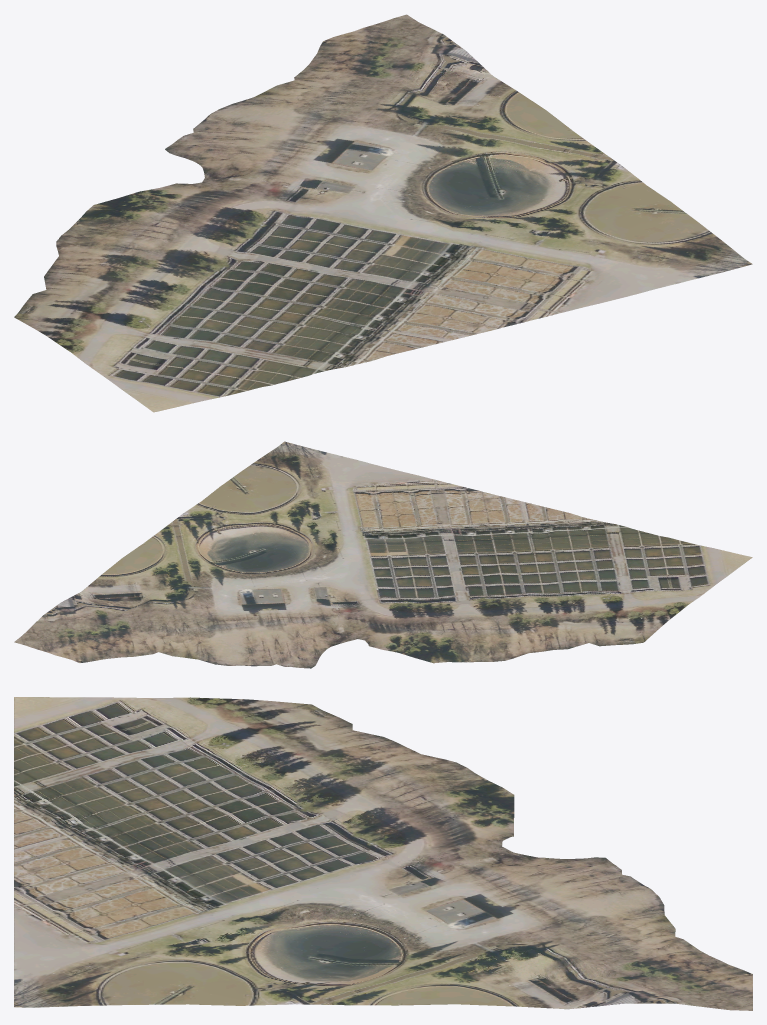
Rendered from CM_Terrain_24487387_6819794.fbx.
3 views of the same model, one above another, from view 1: azimuth 30°, elevation 25°; view 2: azimuth 150°, elevation 25°; view 3: azimuth 270°, elevation 25° (orthographic). The views are drawn at different scales.
Visible parts, largest first — view 1: CM_Terrain_24487387_6819794_LOD0; view 2: CM_Terrain_24487387_6819794_LOD0; view 3: CM_Terrain_24487387_6819794_LOD0.
Boxes of the visible parts, box(x1,y1,x2,y2) form: CM_Terrain_24487387_6819794_LOD0: box(14, 14, 752, 412); CM_Terrain_24487387_6819794_LOD0: box(14, 441, 752, 668); CM_Terrain_24487387_6819794_LOD0: box(14, 697, 752, 1010).
Size of what is drawn, in the model's own units: 205 by 5.24 by 205.
